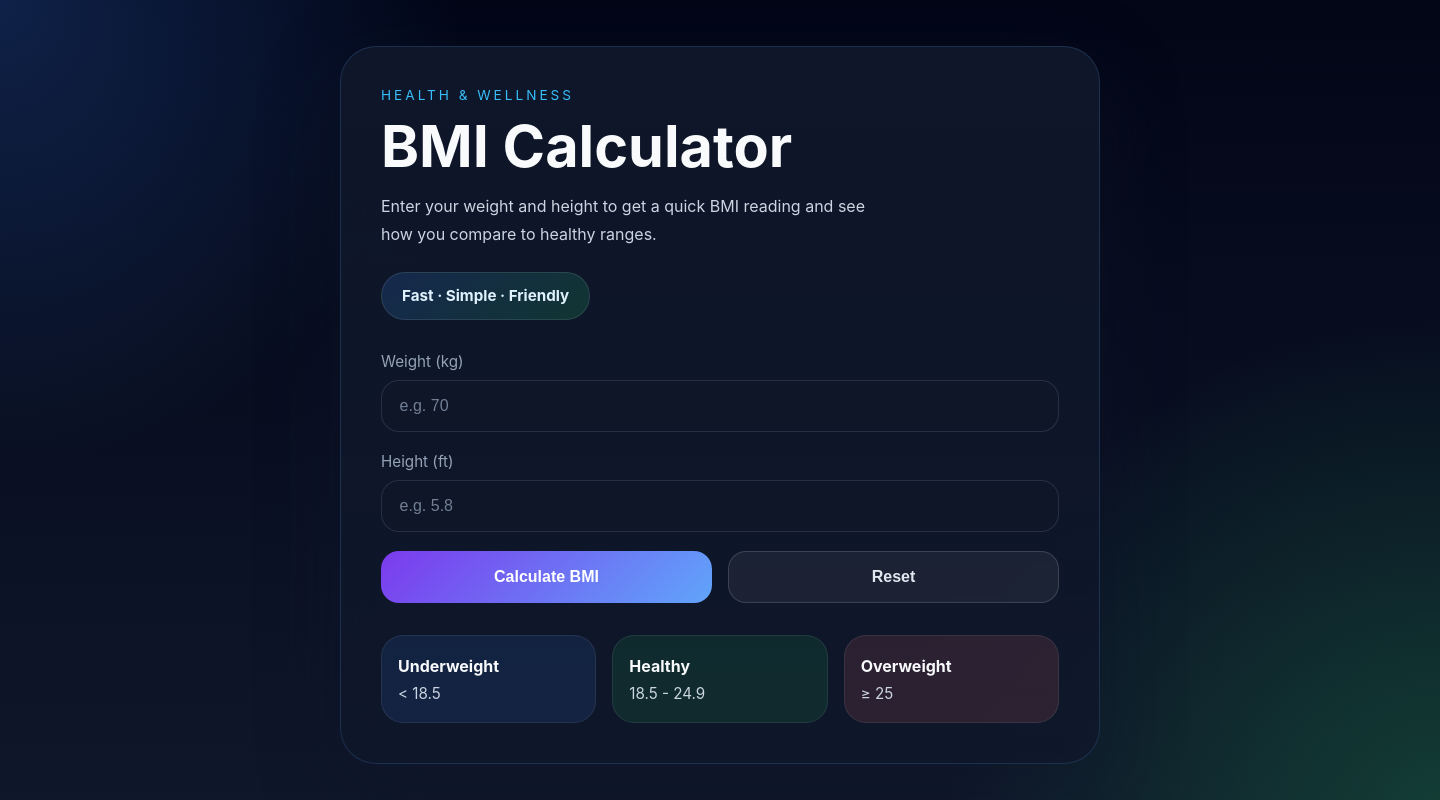
Test case: shows an overweight result for a high BMI
In the number field labelled "Weight (kg)": [720, 406] box [381,380,1059,432], type "90"
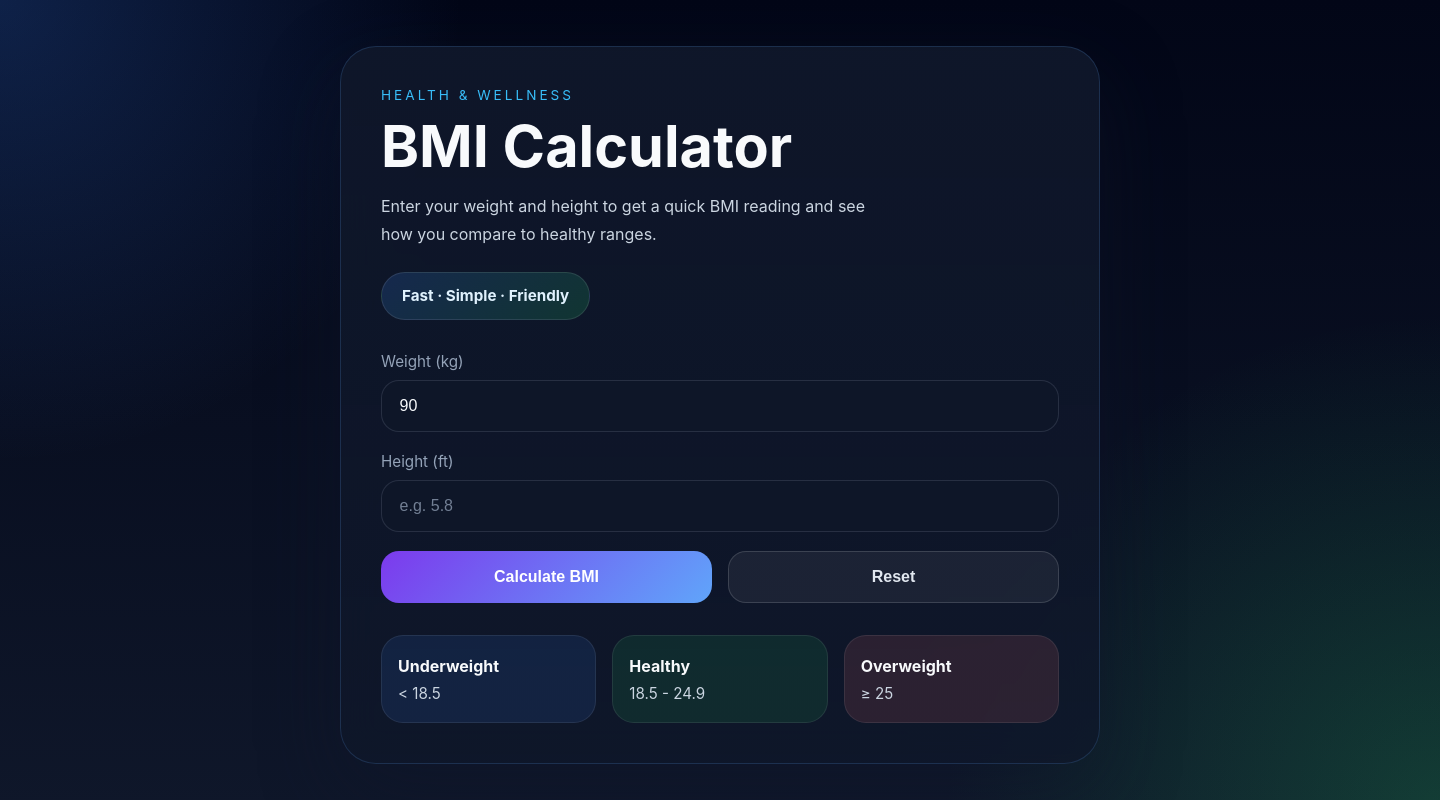
In the number field labelled "Height (ft)": [720, 506] box [381,480,1059,532], type "5.8"
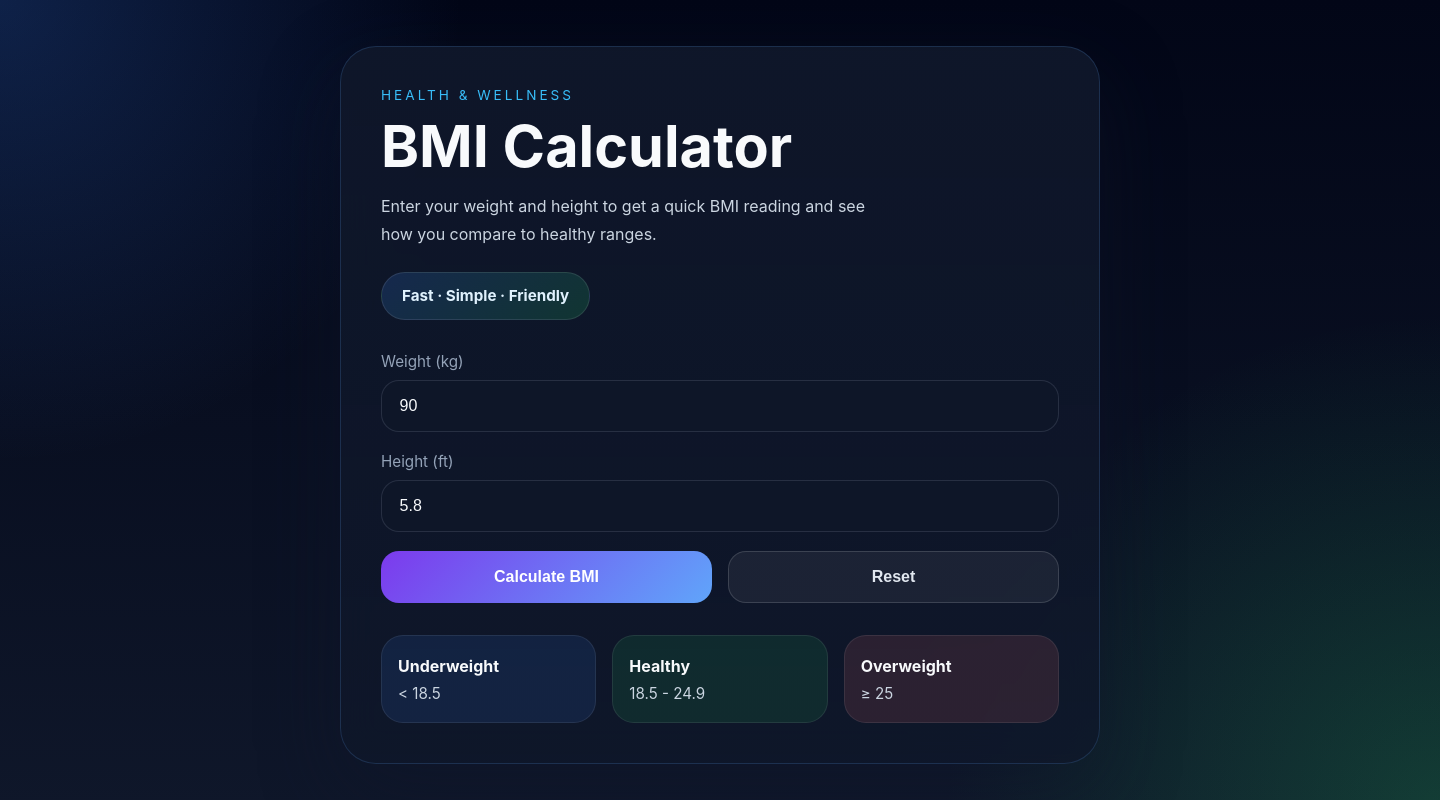
Click the button "Calculate BMI": [546, 577] box [381,551,712,603]
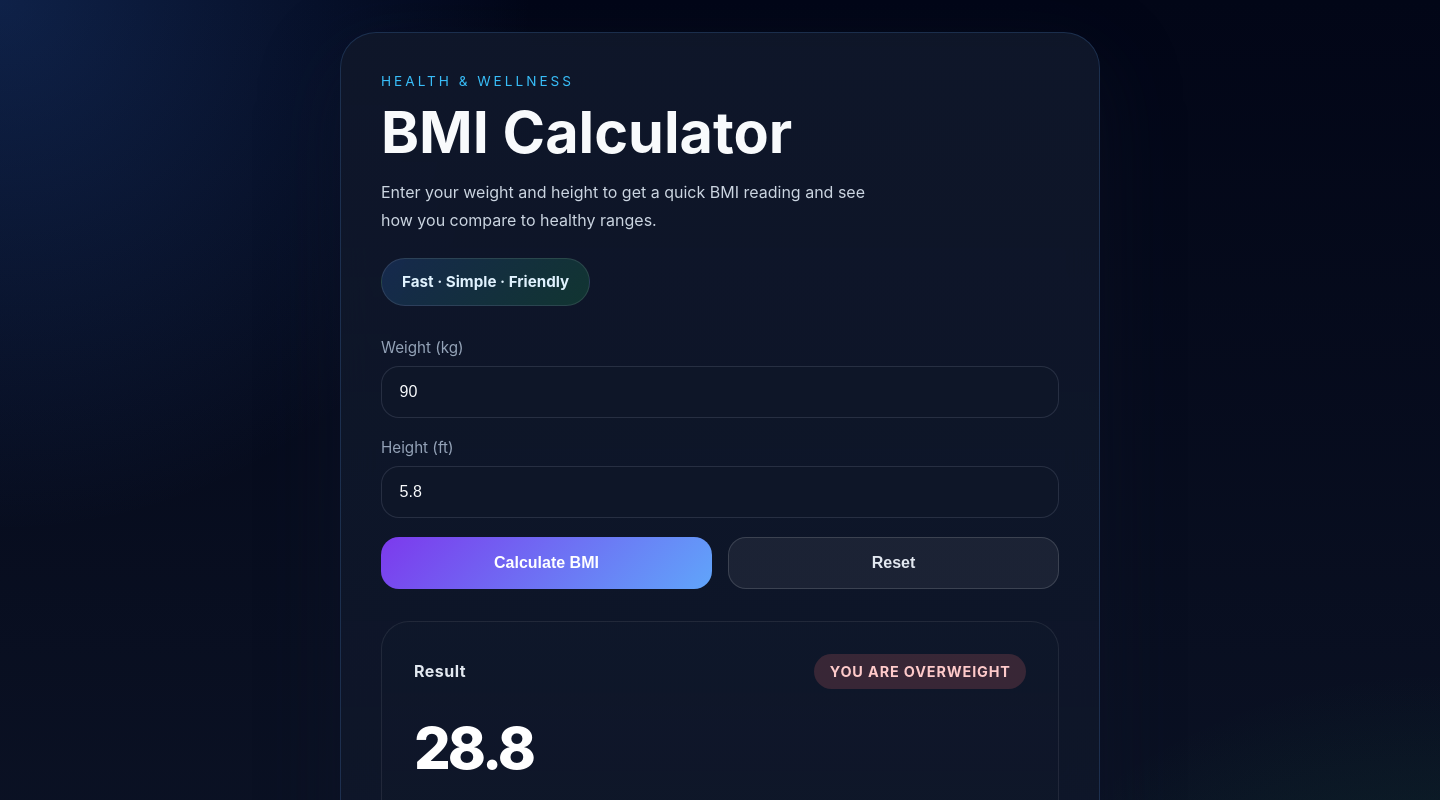
expect the text "You are overweight" is shown: met, box [814,654,1026,689]
